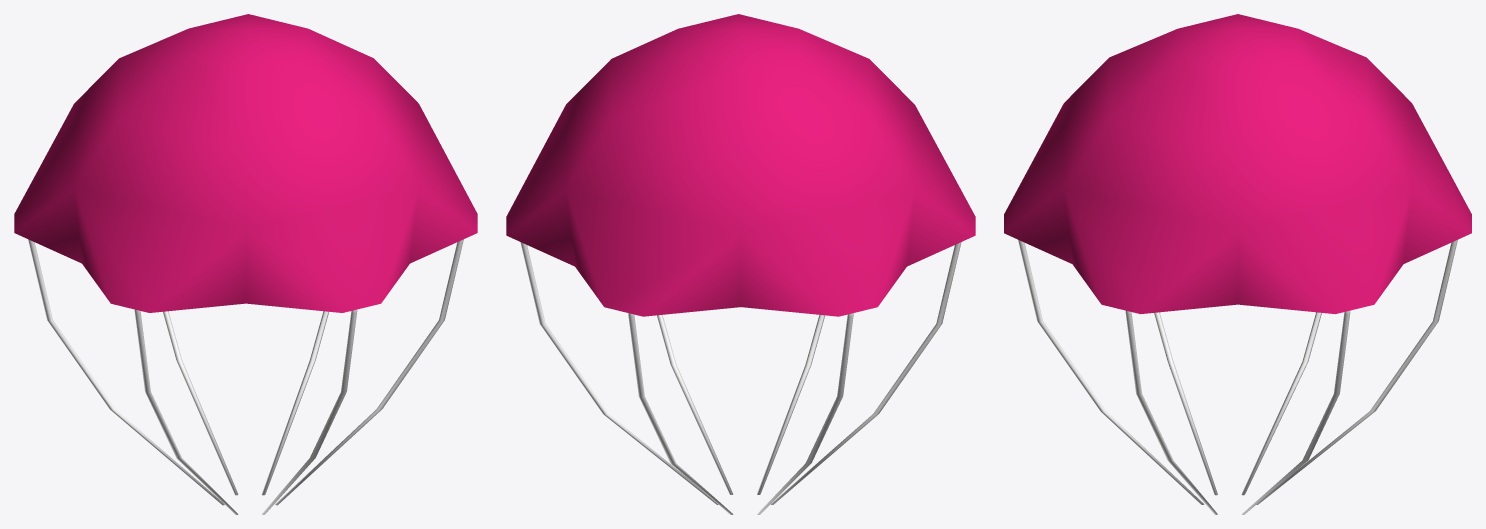
The model's file is parachute.fbx.
3 views of the same model, side by side, from view 1: azimuth 30°, elevation 25°; view 2: azimuth 150°, elevation 25°; view 3: azimuth 270°, elevation 25° (orthographic).
Parts seen in each view (by area): view 1: parachute; view 2: parachute; view 3: parachute.
Boxes of the visible parts, bbox=[...] form: parachute: bbox=[14, 14, 477, 514]; parachute: bbox=[506, 14, 975, 514]; parachute: bbox=[1004, 14, 1471, 514].
Bounding box in the file's own units: 28.96 × 35.48 × 31.68.
